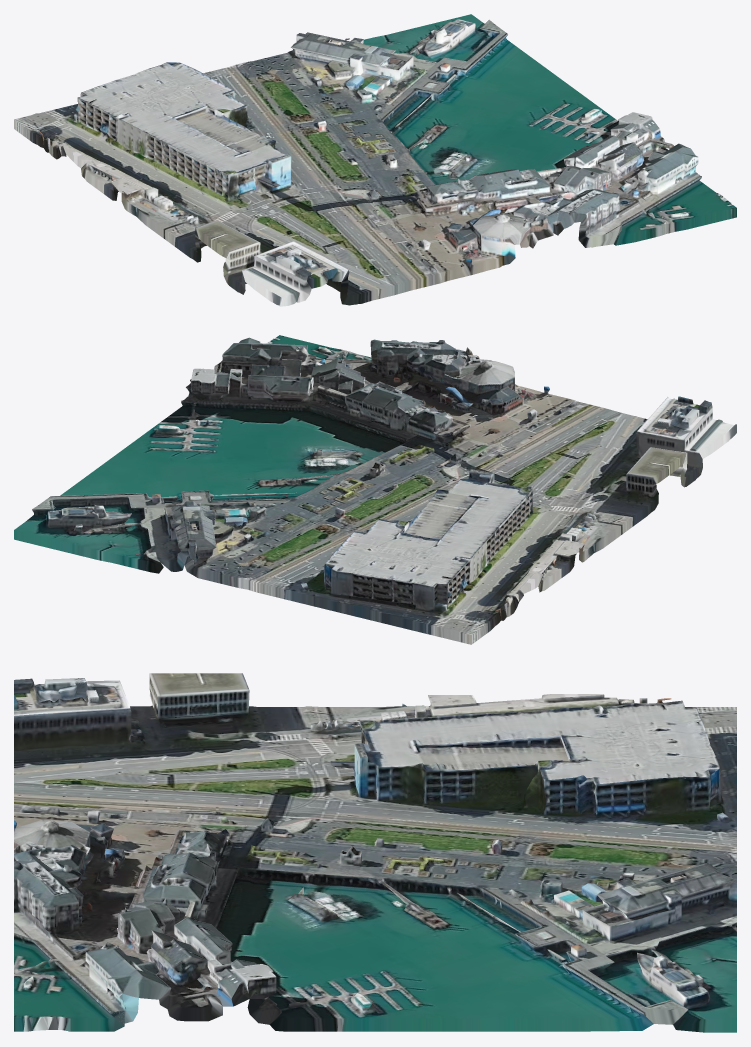
The model's file is z17-20967-50646-h0-yup-uvflip-v3-world.glb.
3 views of the same model, one above another, from view 1: azimuth 30°, elevation 25°; view 2: azimuth 150°, elevation 25°; view 3: azimuth 270°, elevation 25° (orthographic). The views are drawn at different scales.
Size of the model in its own units: 241 by 24.64 by 243.
1 material, 1 textured.
